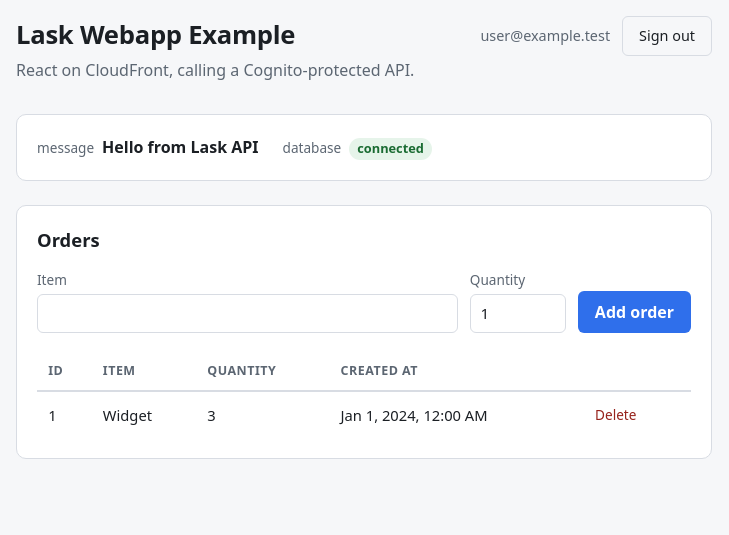
Scenario: App › surfaces the API error when a delete fails
Click the button with aria-label "delete order 1": (616, 415) [588,400,644,429]
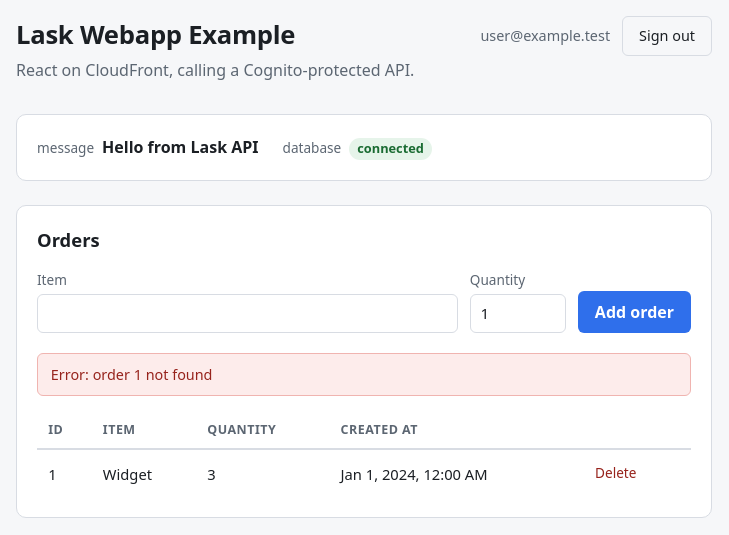
Expected: the message shows "order 1 not found", [93,365,212,384]
